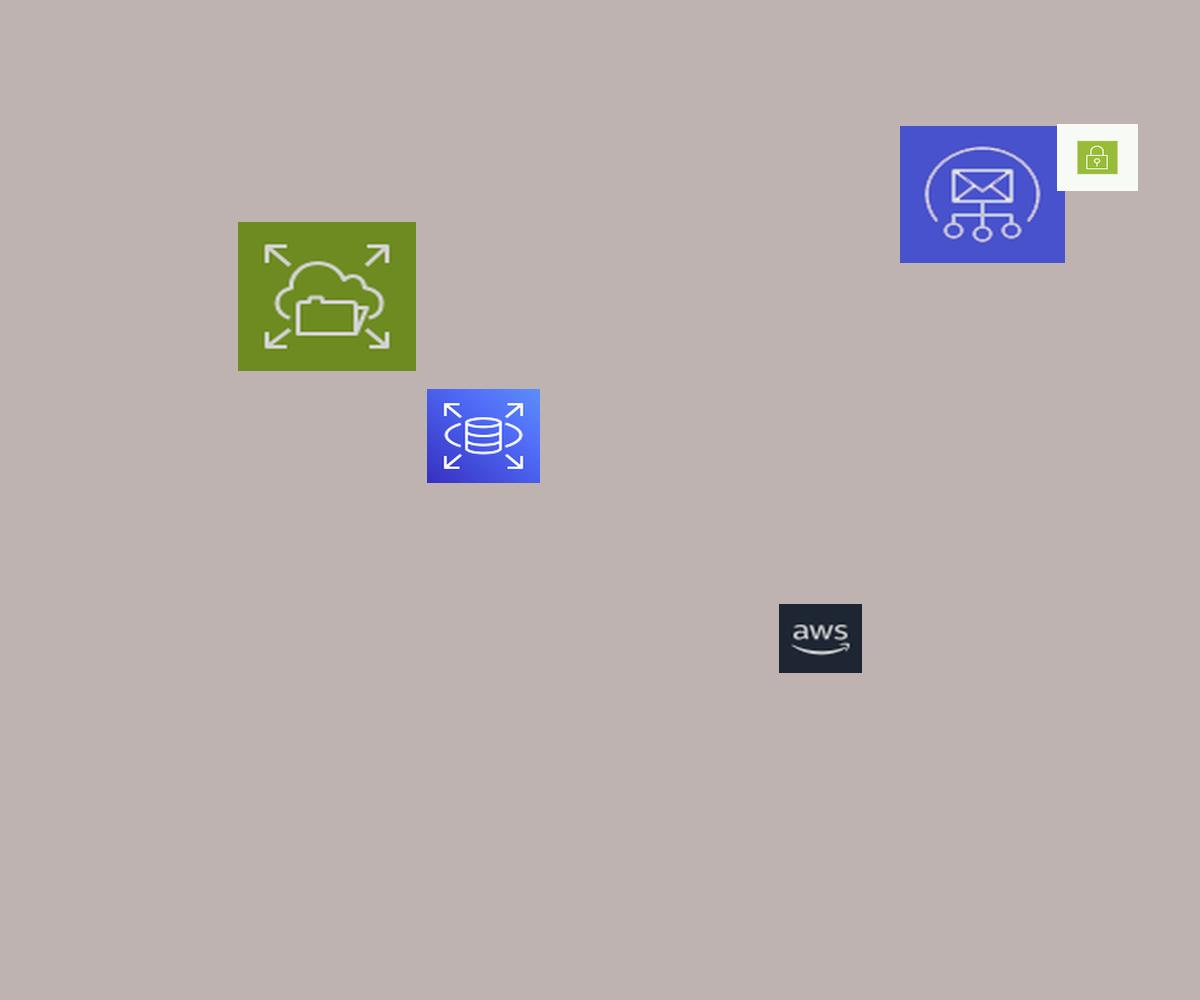AWS-Cloud-logo: (779, 604, 862, 673)
AWS-EFS: (238, 222, 416, 371)
AWS-Public-subnet: (1057, 124, 1138, 191)
AWS-RDS: (427, 389, 540, 483)
AWS-Simple-Email-Service: (900, 126, 1065, 263)
